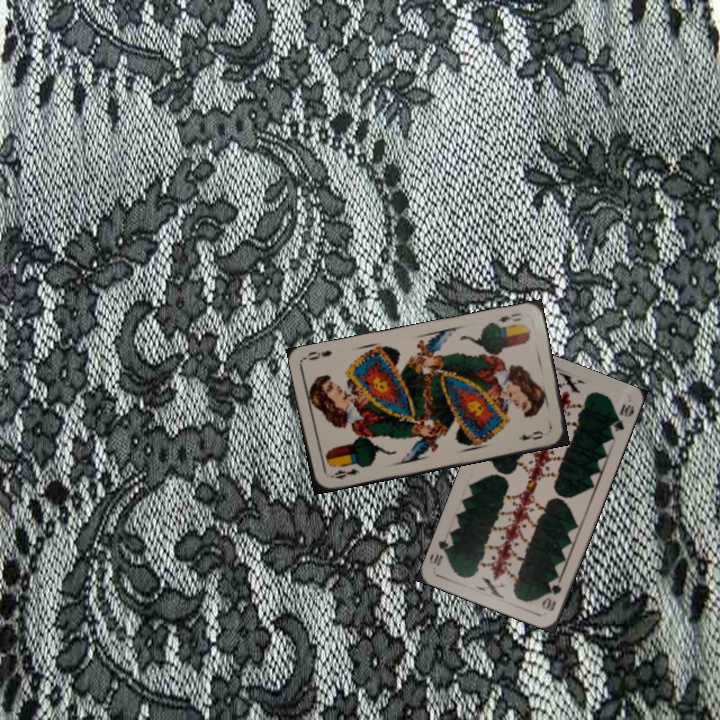EO: (326, 465, 362, 482), (494, 308, 524, 325)
G10: (538, 575, 564, 614)
